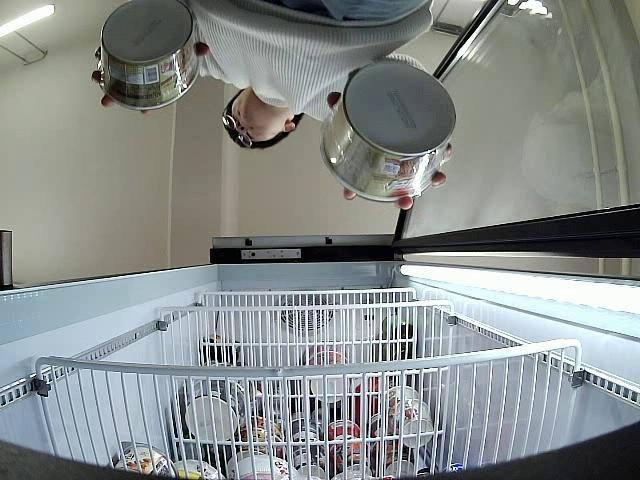03_chapagetti_L: (320, 60, 457, 203), (100, 0, 201, 111)
